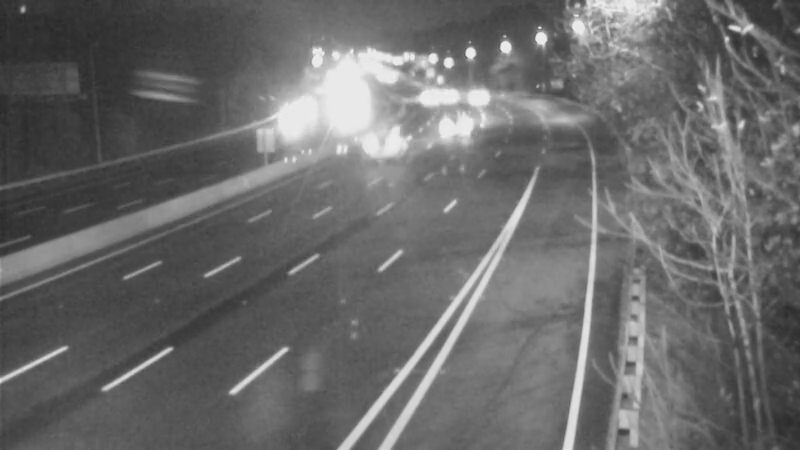vehicle: (446, 65, 496, 115), (433, 69, 483, 119), (395, 77, 445, 127), (437, 92, 487, 142), (351, 112, 401, 162), (262, 96, 312, 146)
